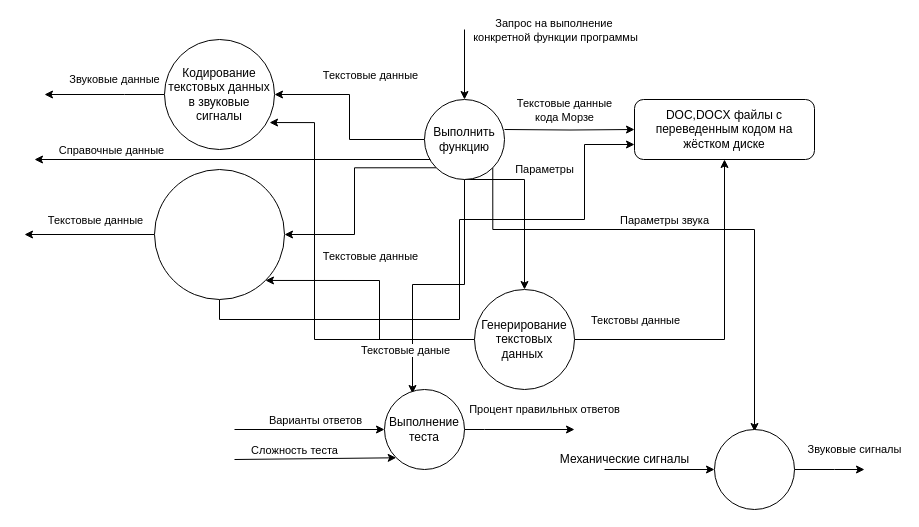
The diagram is 919 pixels wide and 527 high, and some of its shapes have lost their labels. Here are the shapes that lost their labels. From the top down, the centre of each, then its label:
the point at 219,234: Кодирование текстовых данных в последовательность специальных символов
the point at 754,469: Передача на "ключе"
